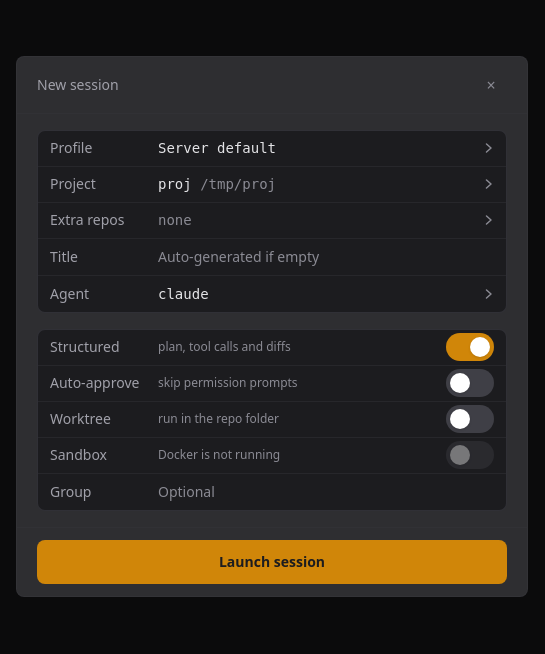
Test: SessionWizard unknown create outcome › stops without sending once the replay window passes while the browser is offline
Click the button "Launch session".
click(272, 562)  # box top-left (37, 540), bottom-right (507, 584)
Wait 10000 ms
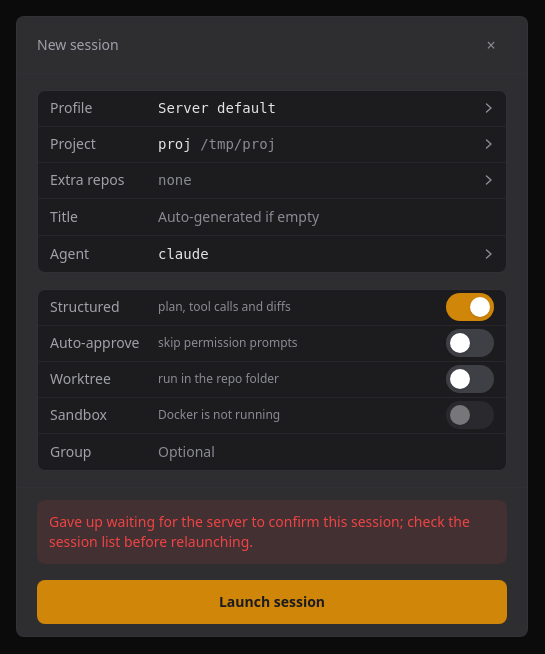
Expected: the text "Gave up waiting" is shown, top-left (49, 512), bottom-right (470, 550)
